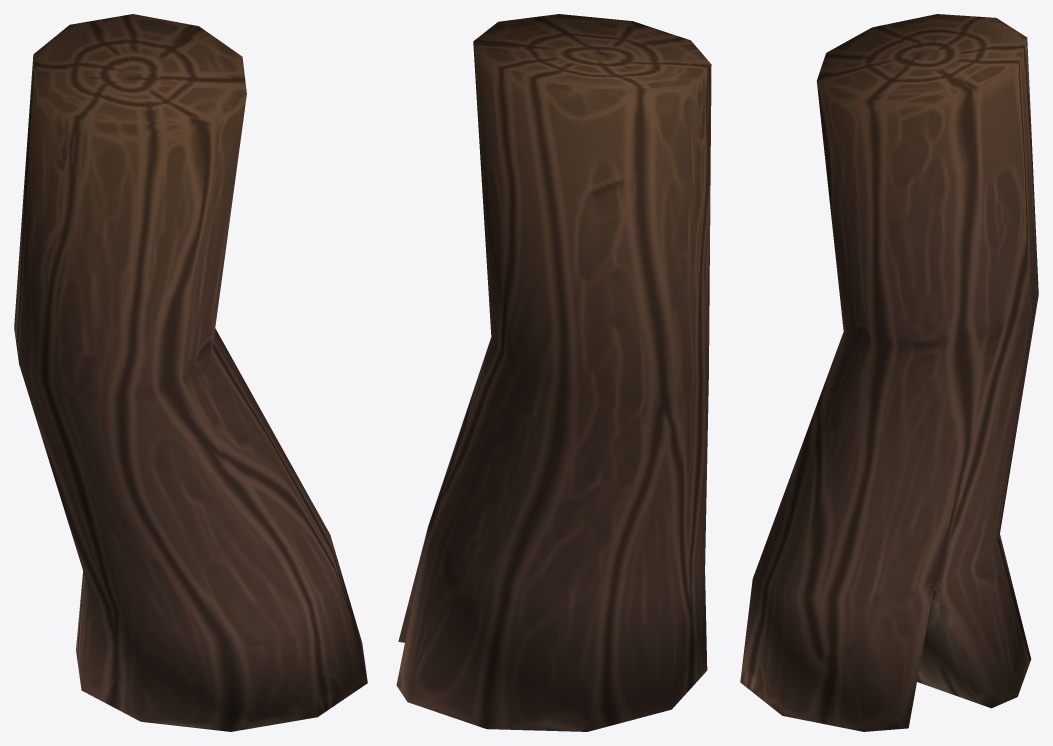
File: Dummy_leg.fbx
3 views of the same model, side by side, from view 1: azimuth 30°, elevation 25°; view 2: azimuth 150°, elevation 25°; view 3: azimuth 270°, elevation 25° (orthographic). The views are drawn at different scales.
Visible parts, largest first — view 1: Dummy_leg; view 2: Dummy_leg; view 3: Dummy_leg.
Part boxes in pixels (box(x1,y1,x2,y2)): Dummy_leg: box(14, 14, 367, 731); Dummy_leg: box(396, 14, 711, 731); Dummy_leg: box(740, 14, 1038, 731).
Size of the model in its own units: 38.56 by 75.89 by 34.4.
1 material, 1 textured.
